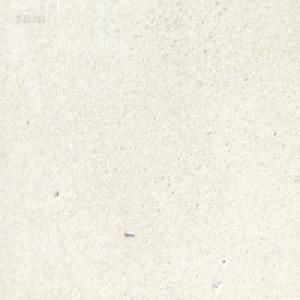Nail: (124, 229, 134, 237)
